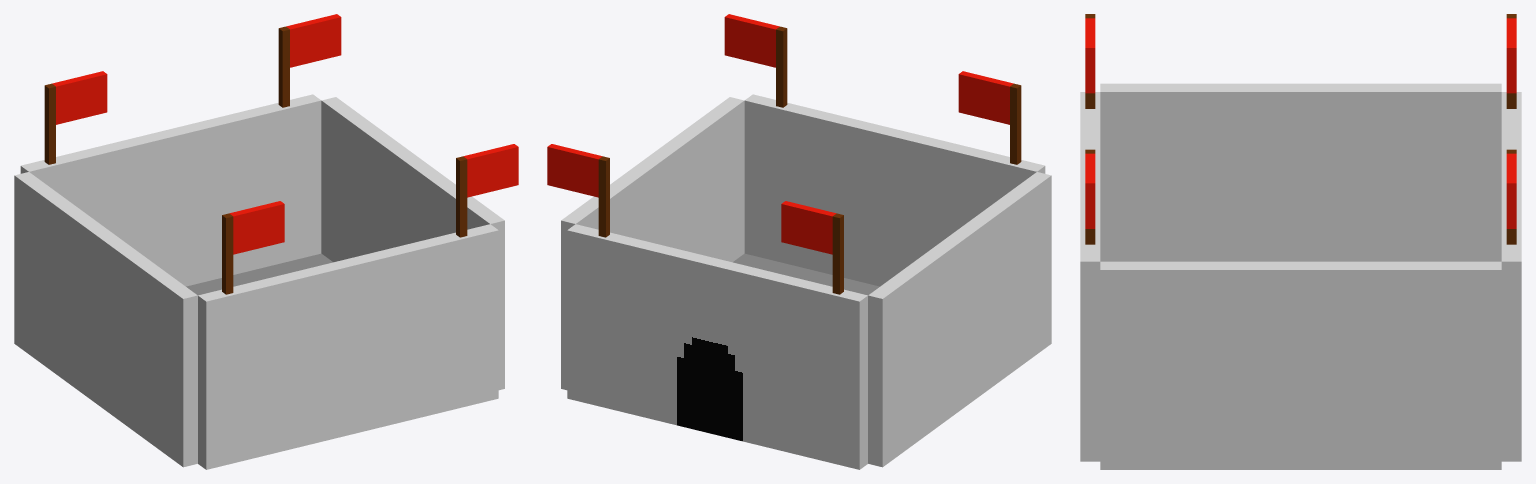
Rendered from PvP area.gltf.
The picture shows the model from 3 angles, left to right: view 1: azimuth 30°, elevation 25°; view 2: azimuth 150°, elevation 25°; view 3: azimuth 270°, elevation 25°; orthographic projection. The views are drawn at different scales.
Parts seen in each view (by area): view 1: cube (×13); view 2: cube (×13); view 3: cube (×8).
Boxes of the visible parts, x1=… form: cube (×13): x1=14, y1=14, x2=518, y2=469; cube (×13): x1=547, y1=14, x2=1051, y2=469; cube (×8): x1=1080, y1=18, x2=1521, y2=469.
Size of the model in its own units: 11.25 by 8 by 11.
1 material, 1 textured.
